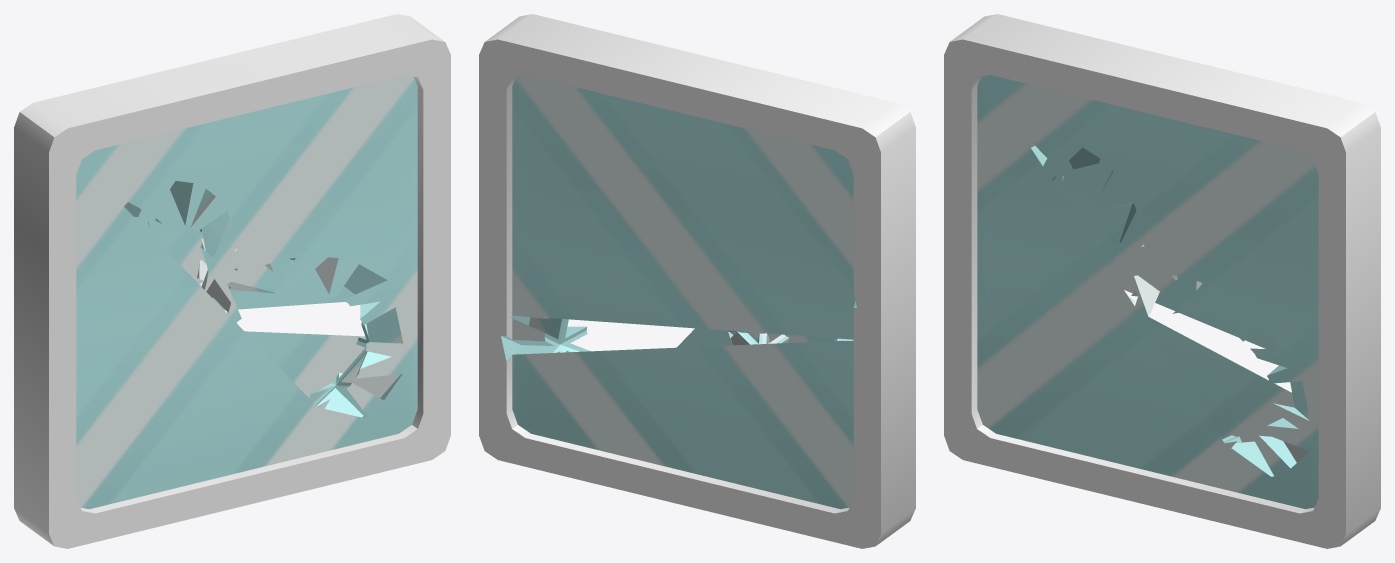
File: Mod_Window_03.fbx
The picture shows the model from 3 angles, left to right: view 1: azimuth 30°, elevation 25°; view 2: azimuth 150°, elevation 25°; view 3: azimuth 330°, elevation 25°; orthographic projection.
Visible parts, largest first — view 1: Mod_Window_03; view 2: Mod_Window_03; view 3: Mod_Window_03.
Part boxes in pixels (box(x1,y1,x2,y2)): Mod_Window_03: box(14, 14, 450, 548); Mod_Window_03: box(479, 14, 915, 548); Mod_Window_03: box(944, 14, 1380, 548).
Bounding box in the file's own units: 100 × 100 × 15.
